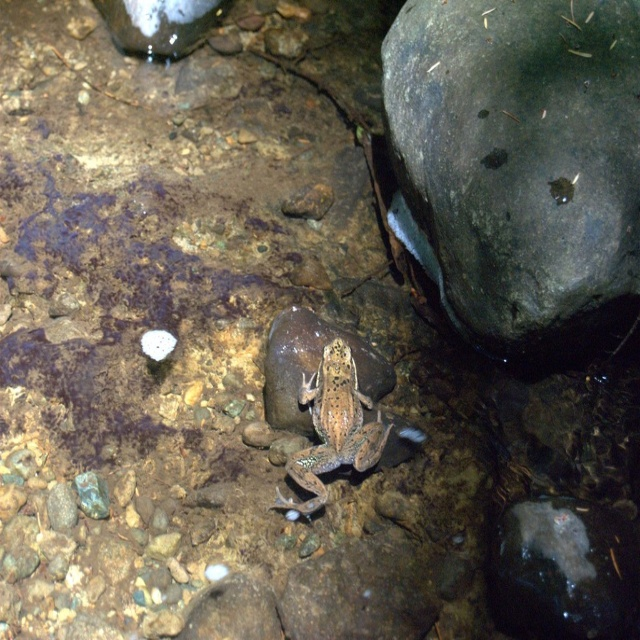Frog: (276, 337, 393, 510)
